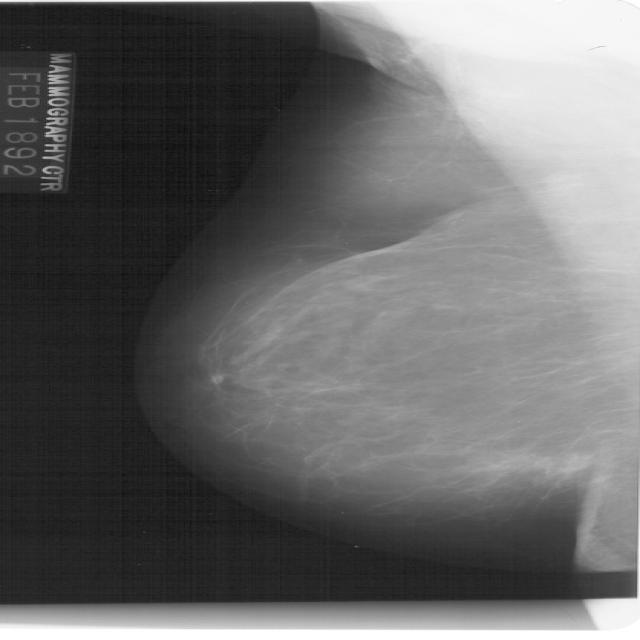tumour: (475, 452, 588, 482)
